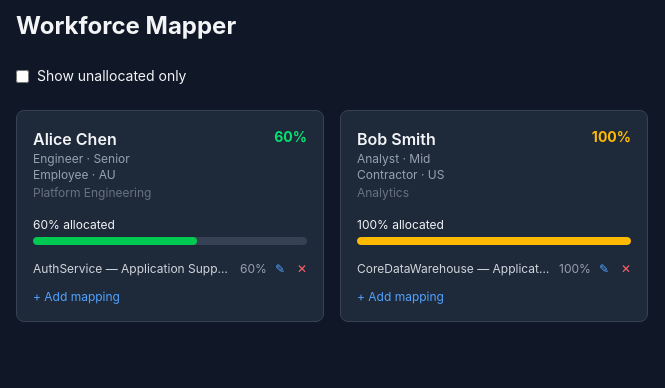
Test: MappingView › shows a saving indicator in the card while a mutation is pending
Expected: the text "Alice Chen" is shown, [33,129,117,149]
Step 1. Click the button "+ Add mapping" below "AuthService — Application Support" → click(76, 296), box [33,289,307,305]
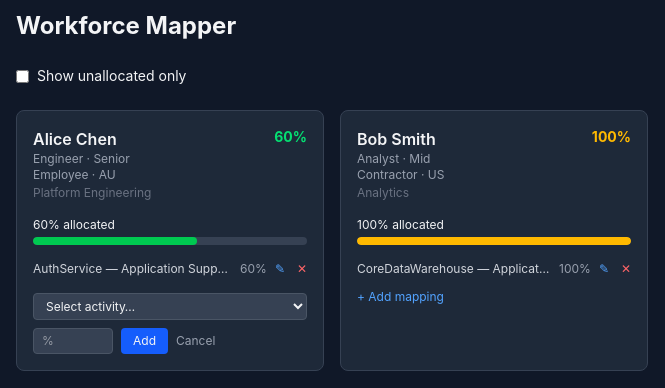
Step 2. Select "CoreDataWarehouse — Application Support" in the dropdown → (170, 306), box [33,293,307,320]
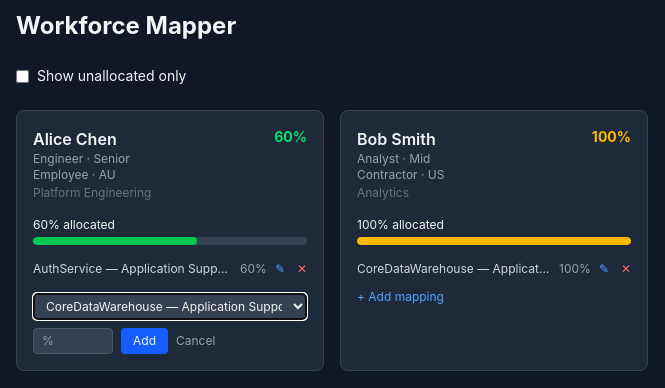
Step 3. Type "20" into the number field with placeholder "%" → (73, 341), box [33,328,113,354]
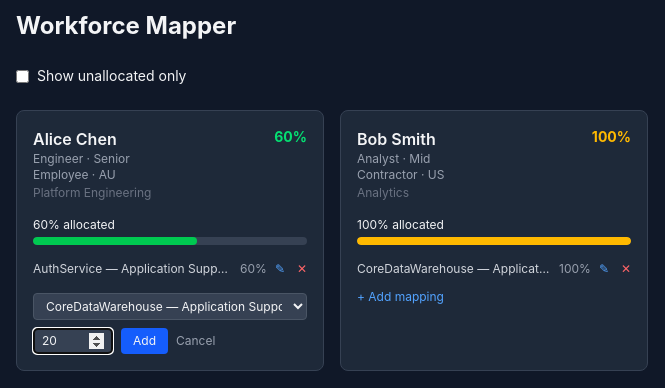
Step 4. Click the button "Add" → click(144, 341), box [121,328,168,354]
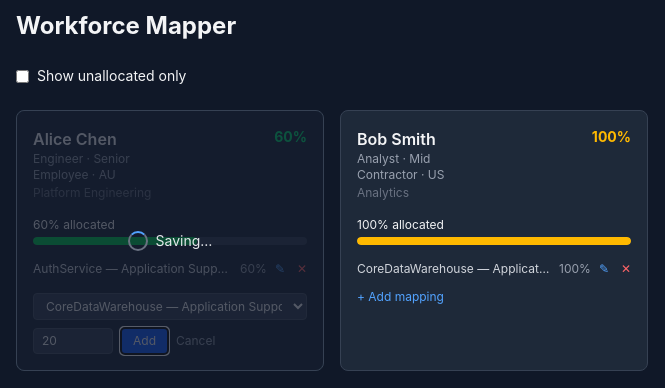
Now the message "Saving…" is shown, box [17,111,323,370]
